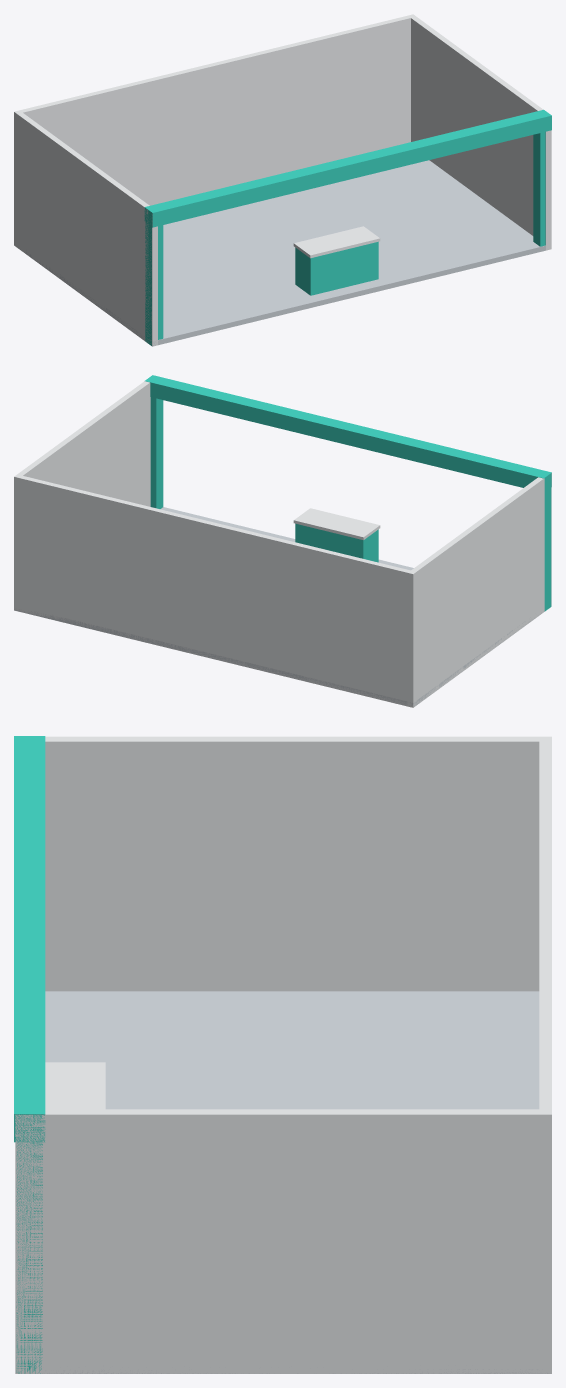
The picture shows the model from 3 angles, top to bottom: view 1: azimuth 30°, elevation 25°; view 2: azimuth 150°, elevation 25°; view 3: azimuth 270°, elevation 25°; orthographic projection. The views are drawn at different scales.
Parts seen in each view (by area): view 1: Exhibition Booth Concept; view 2: Exhibition Booth Concept; view 3: Exhibition Booth Concept.
Boxes of the visible parts, <box> form: Exhibition Booth Concept: <box>14,14,551,346</box>; Exhibition Booth Concept: <box>14,375,551,707</box>; Exhibition Booth Concept: <box>14,736,551,1373</box>.
Size of the model in its own units: 10 by 3.2 by 6.02.
